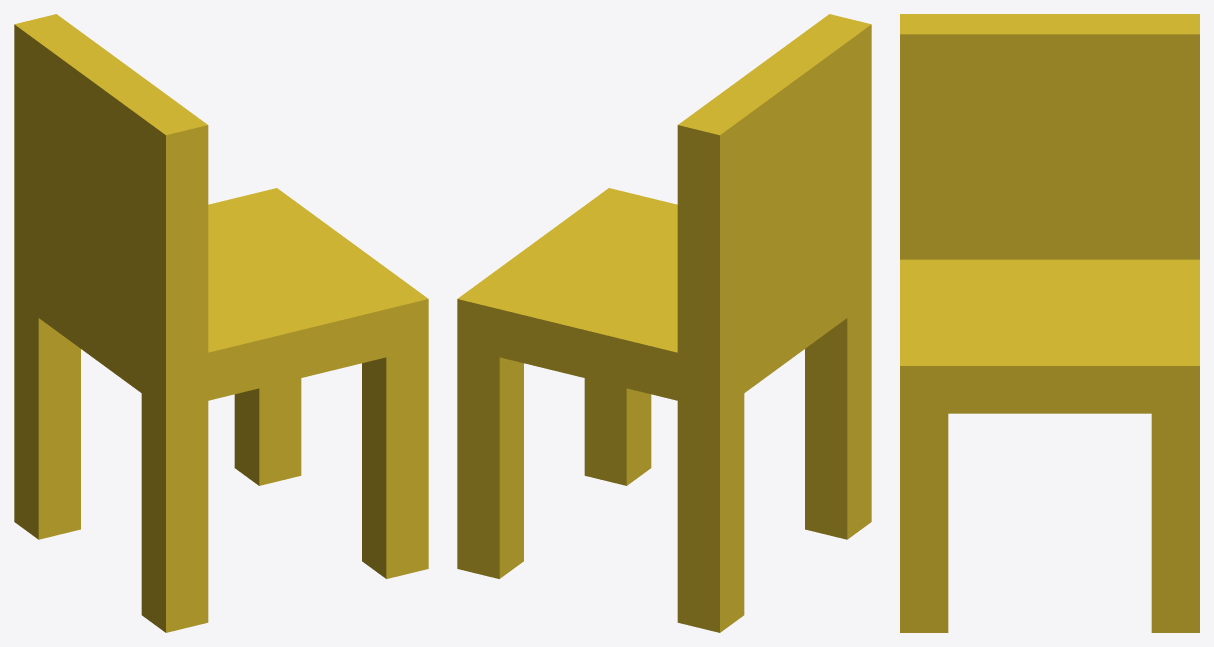
Rendered from plastic_chair.glb.
3 renders of one model, left to right at view 1: azimuth 30°, elevation 25°; view 2: azimuth 150°, elevation 25°; view 3: azimuth 270°, elevation 25°, orthographic.
Parts seen in each view (by area): view 1: PlasticChair.001; view 2: PlasticChair.001; view 3: PlasticChair.001.
Part boxes in pixels (x1,y1,x2,y2): PlasticChair.001: (14,14,428,632); PlasticChair.001: (457,14,871,632); PlasticChair.001: (900,14,1199,632).
Size of what is drawn, in the model's own units: 1.25 by 2.26 by 1.25.
